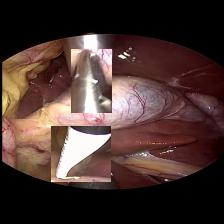Grasper: (70, 49, 111, 113)
Hook: (50, 127, 110, 182)
